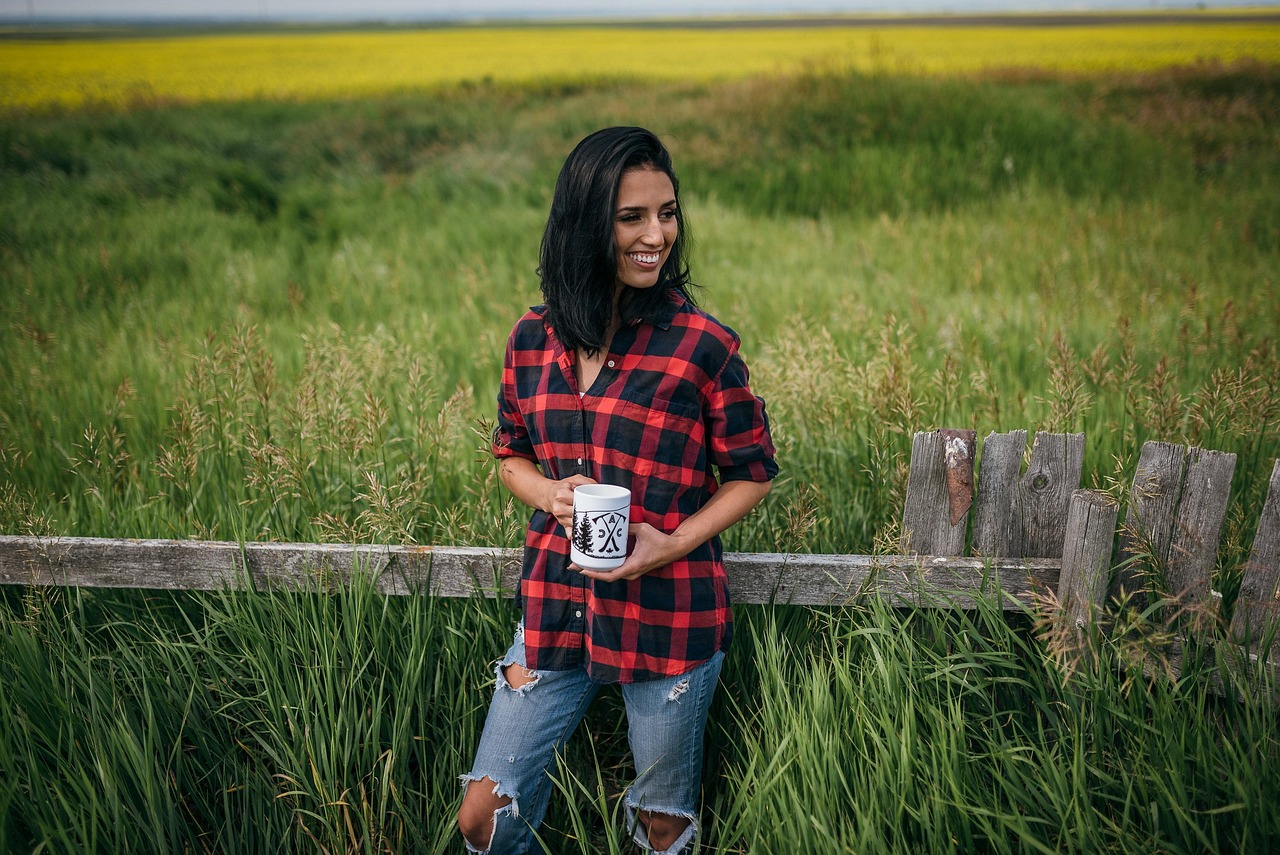mug: (524, 458, 660, 606)
